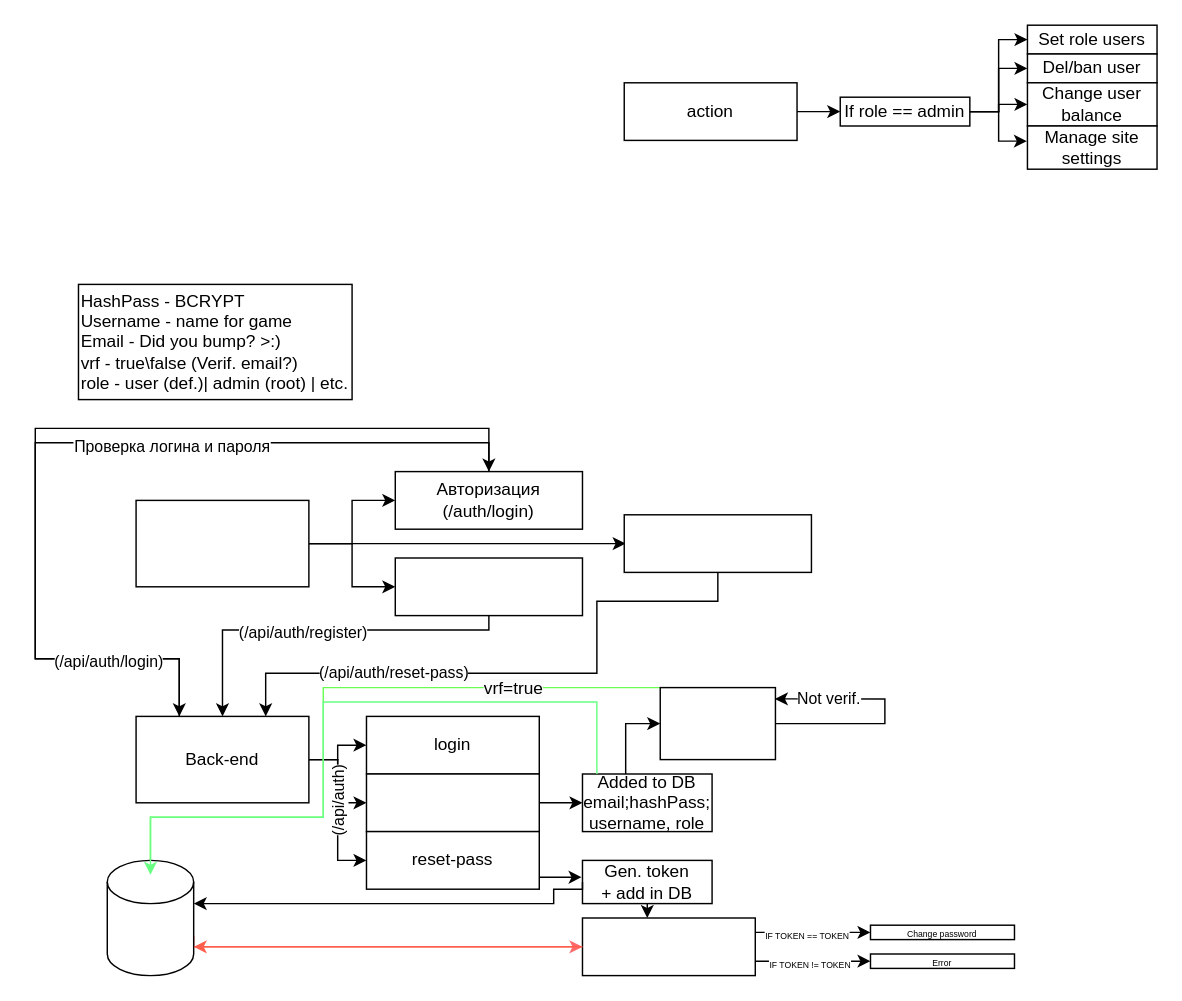
Image size: 1182x1001. Some labels were removed from this diagram. The box of each missing label's shape, as (x1, y1, x2, y2) in pixels:
Front-end: (135, 499, 309, 587)
Go site and checked token on DB: (581, 917, 755, 976)
register: (365, 773, 539, 832)
Send verif. message on mail: (659, 686, 775, 760)
SQLite3 (users): (106, 859, 194, 976)
Забыл пароль? (/auth/reset-pass): (623, 513, 811, 572)
Регистрация (/auth/register): (394, 557, 582, 616)
